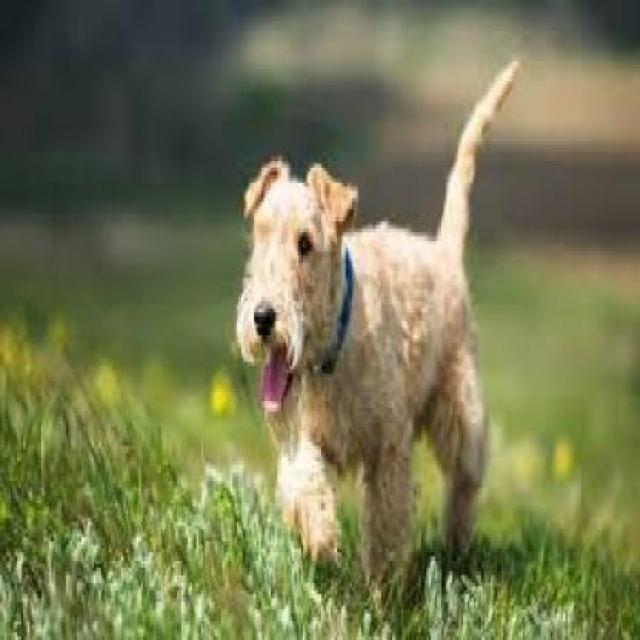animals: (188, 19, 554, 627)
